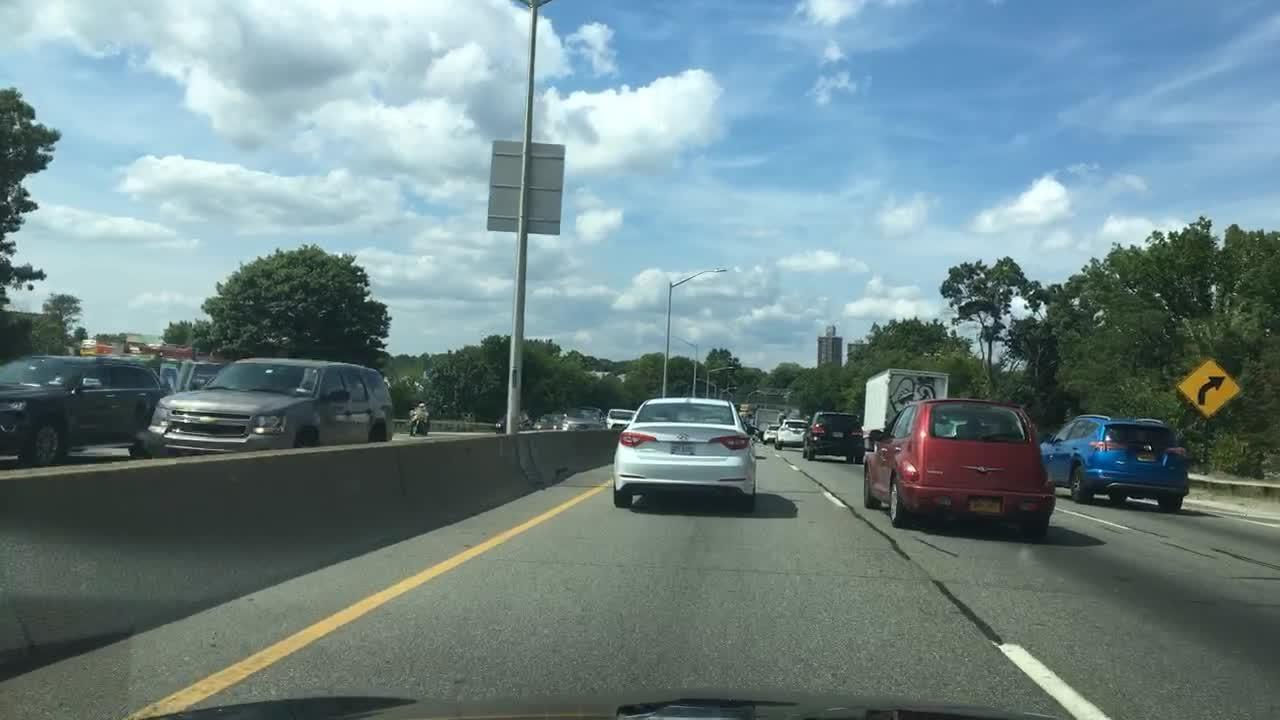Chrysler: (951, 461, 1011, 476)
Infiniti: (674, 432, 692, 444)
